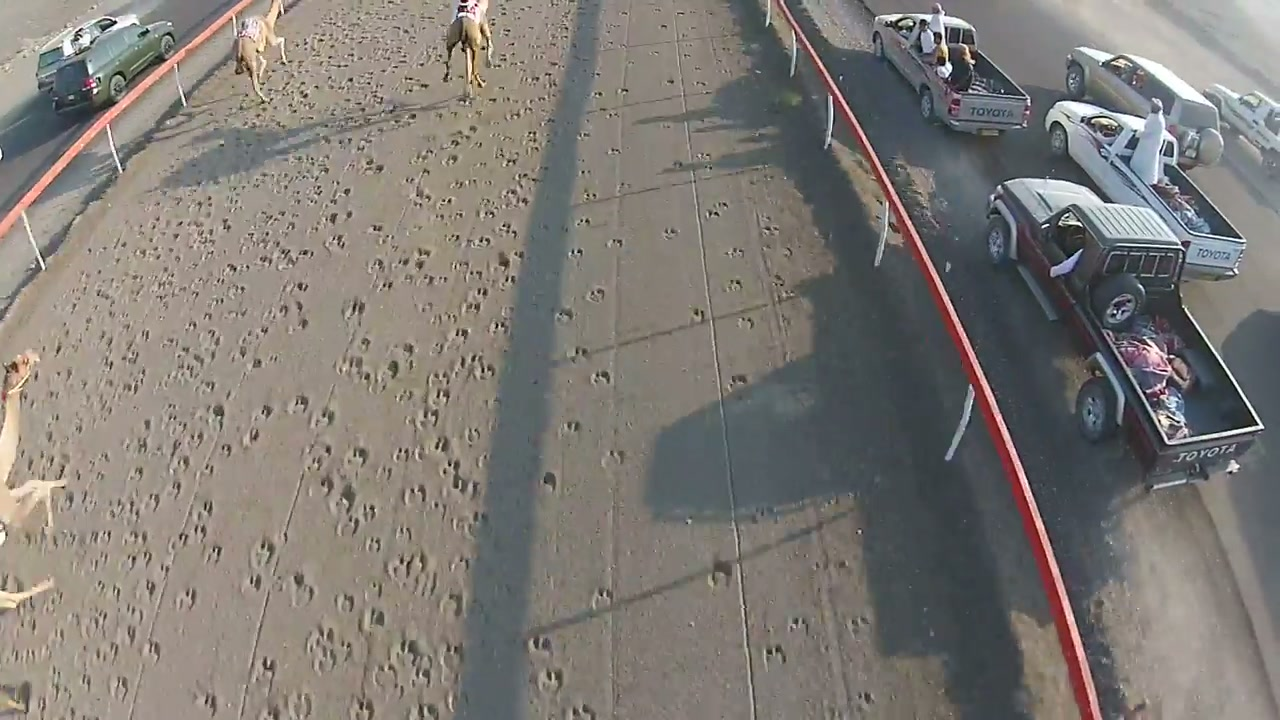animal_foot_print: (51, 111, 360, 693), (271, 78, 520, 693), (637, 46, 851, 693), (539, 76, 637, 719)
